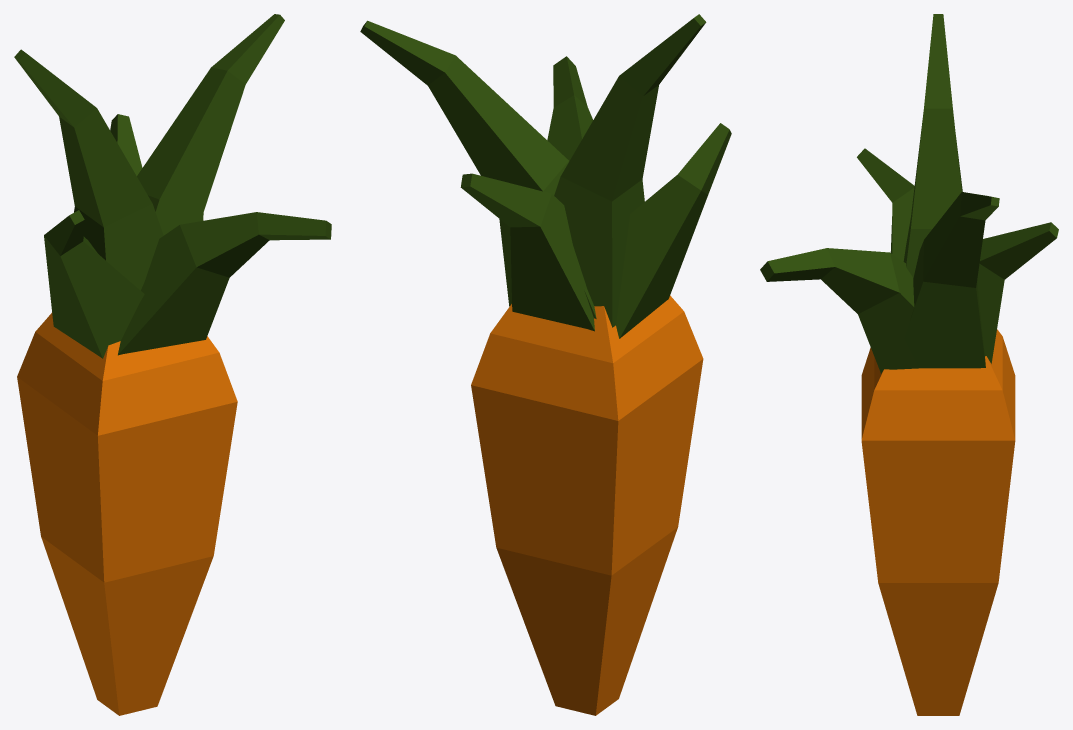
File: Carrot.fbx
3 views of the same model, side by side, from view 1: azimuth 30°, elevation 25°; view 2: azimuth 150°, elevation 25°; view 3: azimuth 270°, elevation 25° (orthographic). The views are drawn at different scales.
Visible parts, largest first — view 1: Cube; view 2: Cube; view 3: Cube.
Part boxes in pixels (box(x1,y1,x2,y2)): Cube: box(14, 14, 331, 715); Cube: box(360, 14, 731, 715); Cube: box(760, 14, 1058, 715).
Bounding box in the file's own units: 27.67 × 60.52 × 25.43.
